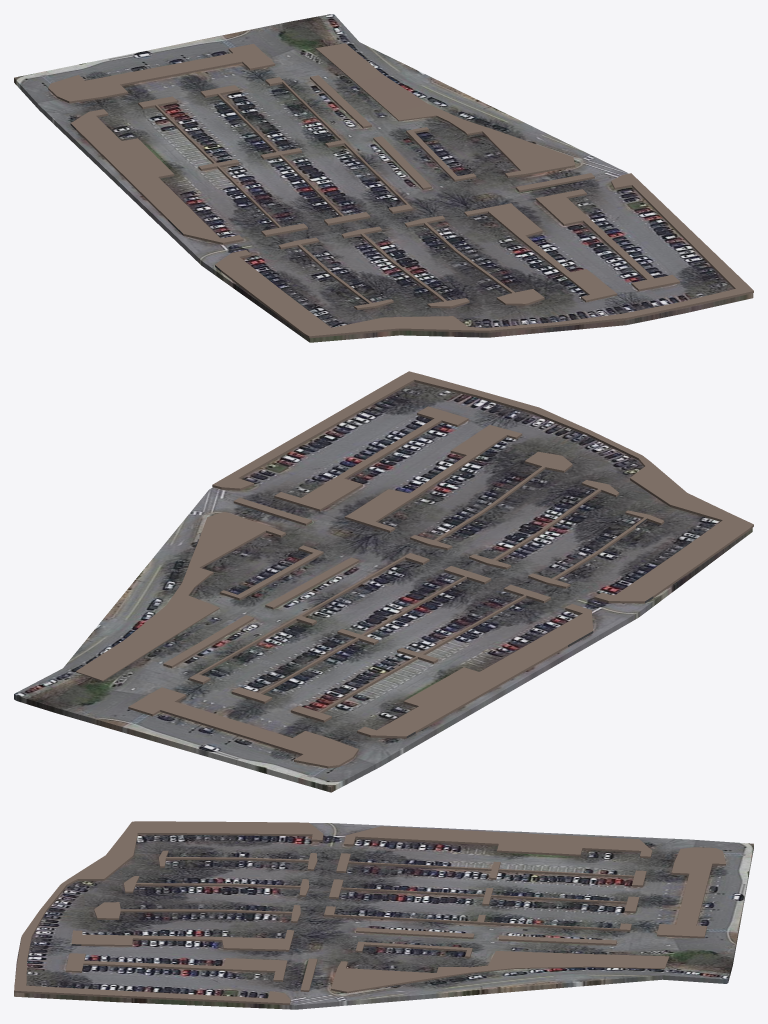
File: BrooksLot.fbx
The picture shows the model from 3 angles, top to bottom: view 1: azimuth 30°, elevation 25°; view 2: azimuth 150°, elevation 25°; view 3: azimuth 270°, elevation 25°; orthographic projection. The views are drawn at different scales.
Parts seen in each view (by area): view 1: Plane; view 2: Plane; view 3: Plane.
Part boxes in pixels (x1=…): Plane: x1=14, y1=14, x2=753, y2=342; Plane: x1=14, y1=371, x2=753, y2=792; Plane: x1=14, y1=821, x2=753, y2=1009.
Size of the model in its own units: 295 by 4.77 by 506.
